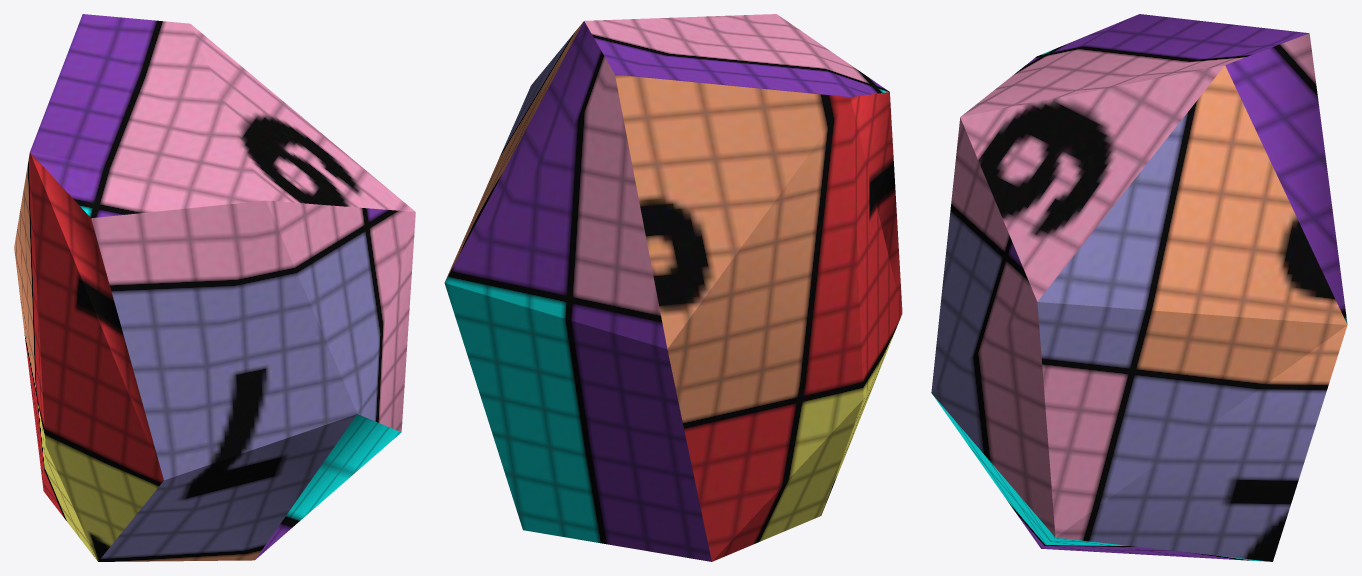
File: lprock6.FBX
3 renders of one model, left to right at view 1: azimuth 30°, elevation 25°; view 2: azimuth 150°, elevation 25°; view 3: azimuth 270°, elevation 25°, orthographic. The views are drawn at different scales.
Visible parts, largest first — view 1: rock6; view 2: rock6; view 3: rock6.
Boxes of the visible parts, x1=… form: rock6: x1=14, y1=14, x2=415, y2=561; rock6: x1=444, y1=14, x2=902, y2=561; rock6: x1=931, y1=14, x2=1347, y2=561.
Bounding box in the file's own units: 85.34 × 113 × 86.
1 material, 1 textured.
